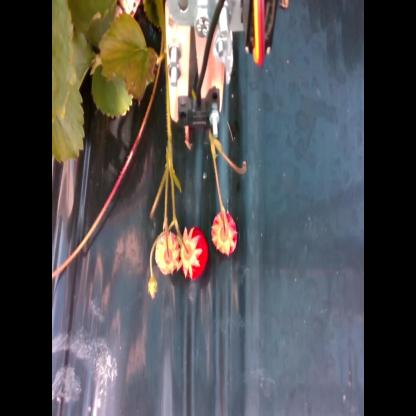ripe: (182, 227, 210, 281)
unripe: (211, 205, 238, 258), (155, 231, 180, 278)
